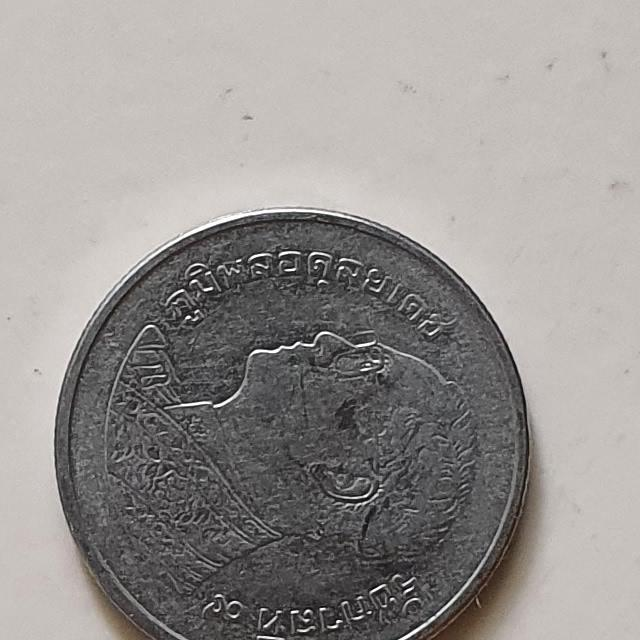1 Bath: (41, 198, 546, 640)
